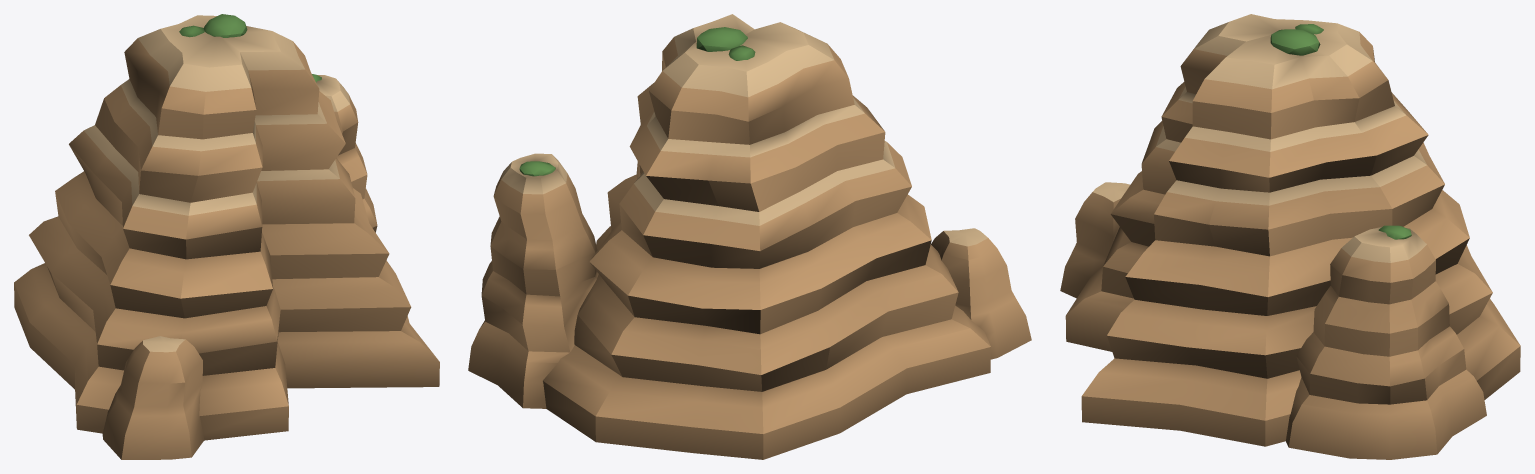
File: rock_sea_a.fbx
3 views of the same model, side by side, from view 1: azimuth 30°, elevation 25°; view 2: azimuth 150°, elevation 25°; view 3: azimuth 270°, elevation 25° (orthographic). The views are drawn at different scales.
Parts seen in each view (by area): view 1: rock_sea_a; view 2: rock_sea_a; view 3: rock_sea_a.
Boxes of the visible parts, <box> form: rock_sea_a: <box>14,14,439,459</box>; rock_sea_a: <box>468,14,1031,459</box>; rock_sea_a: <box>1060,14,1520,459</box>.
Size of the model in its own units: 7.47 by 5.86 by 7.33.
